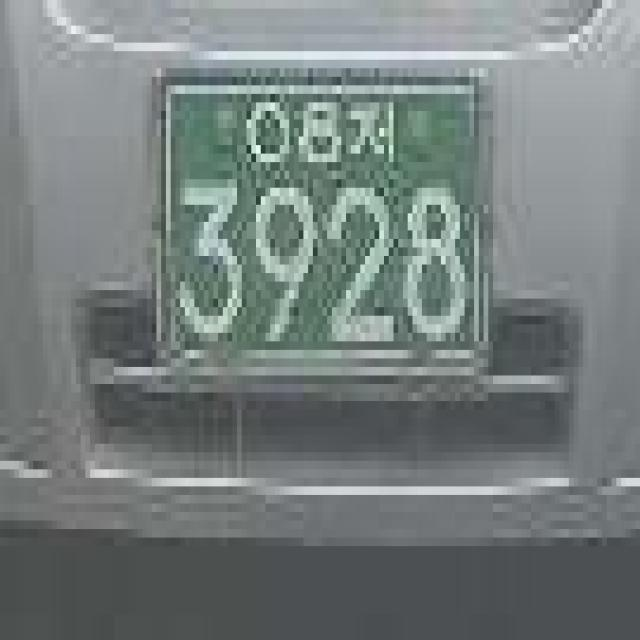illegal_plate: (140, 52, 506, 394)
